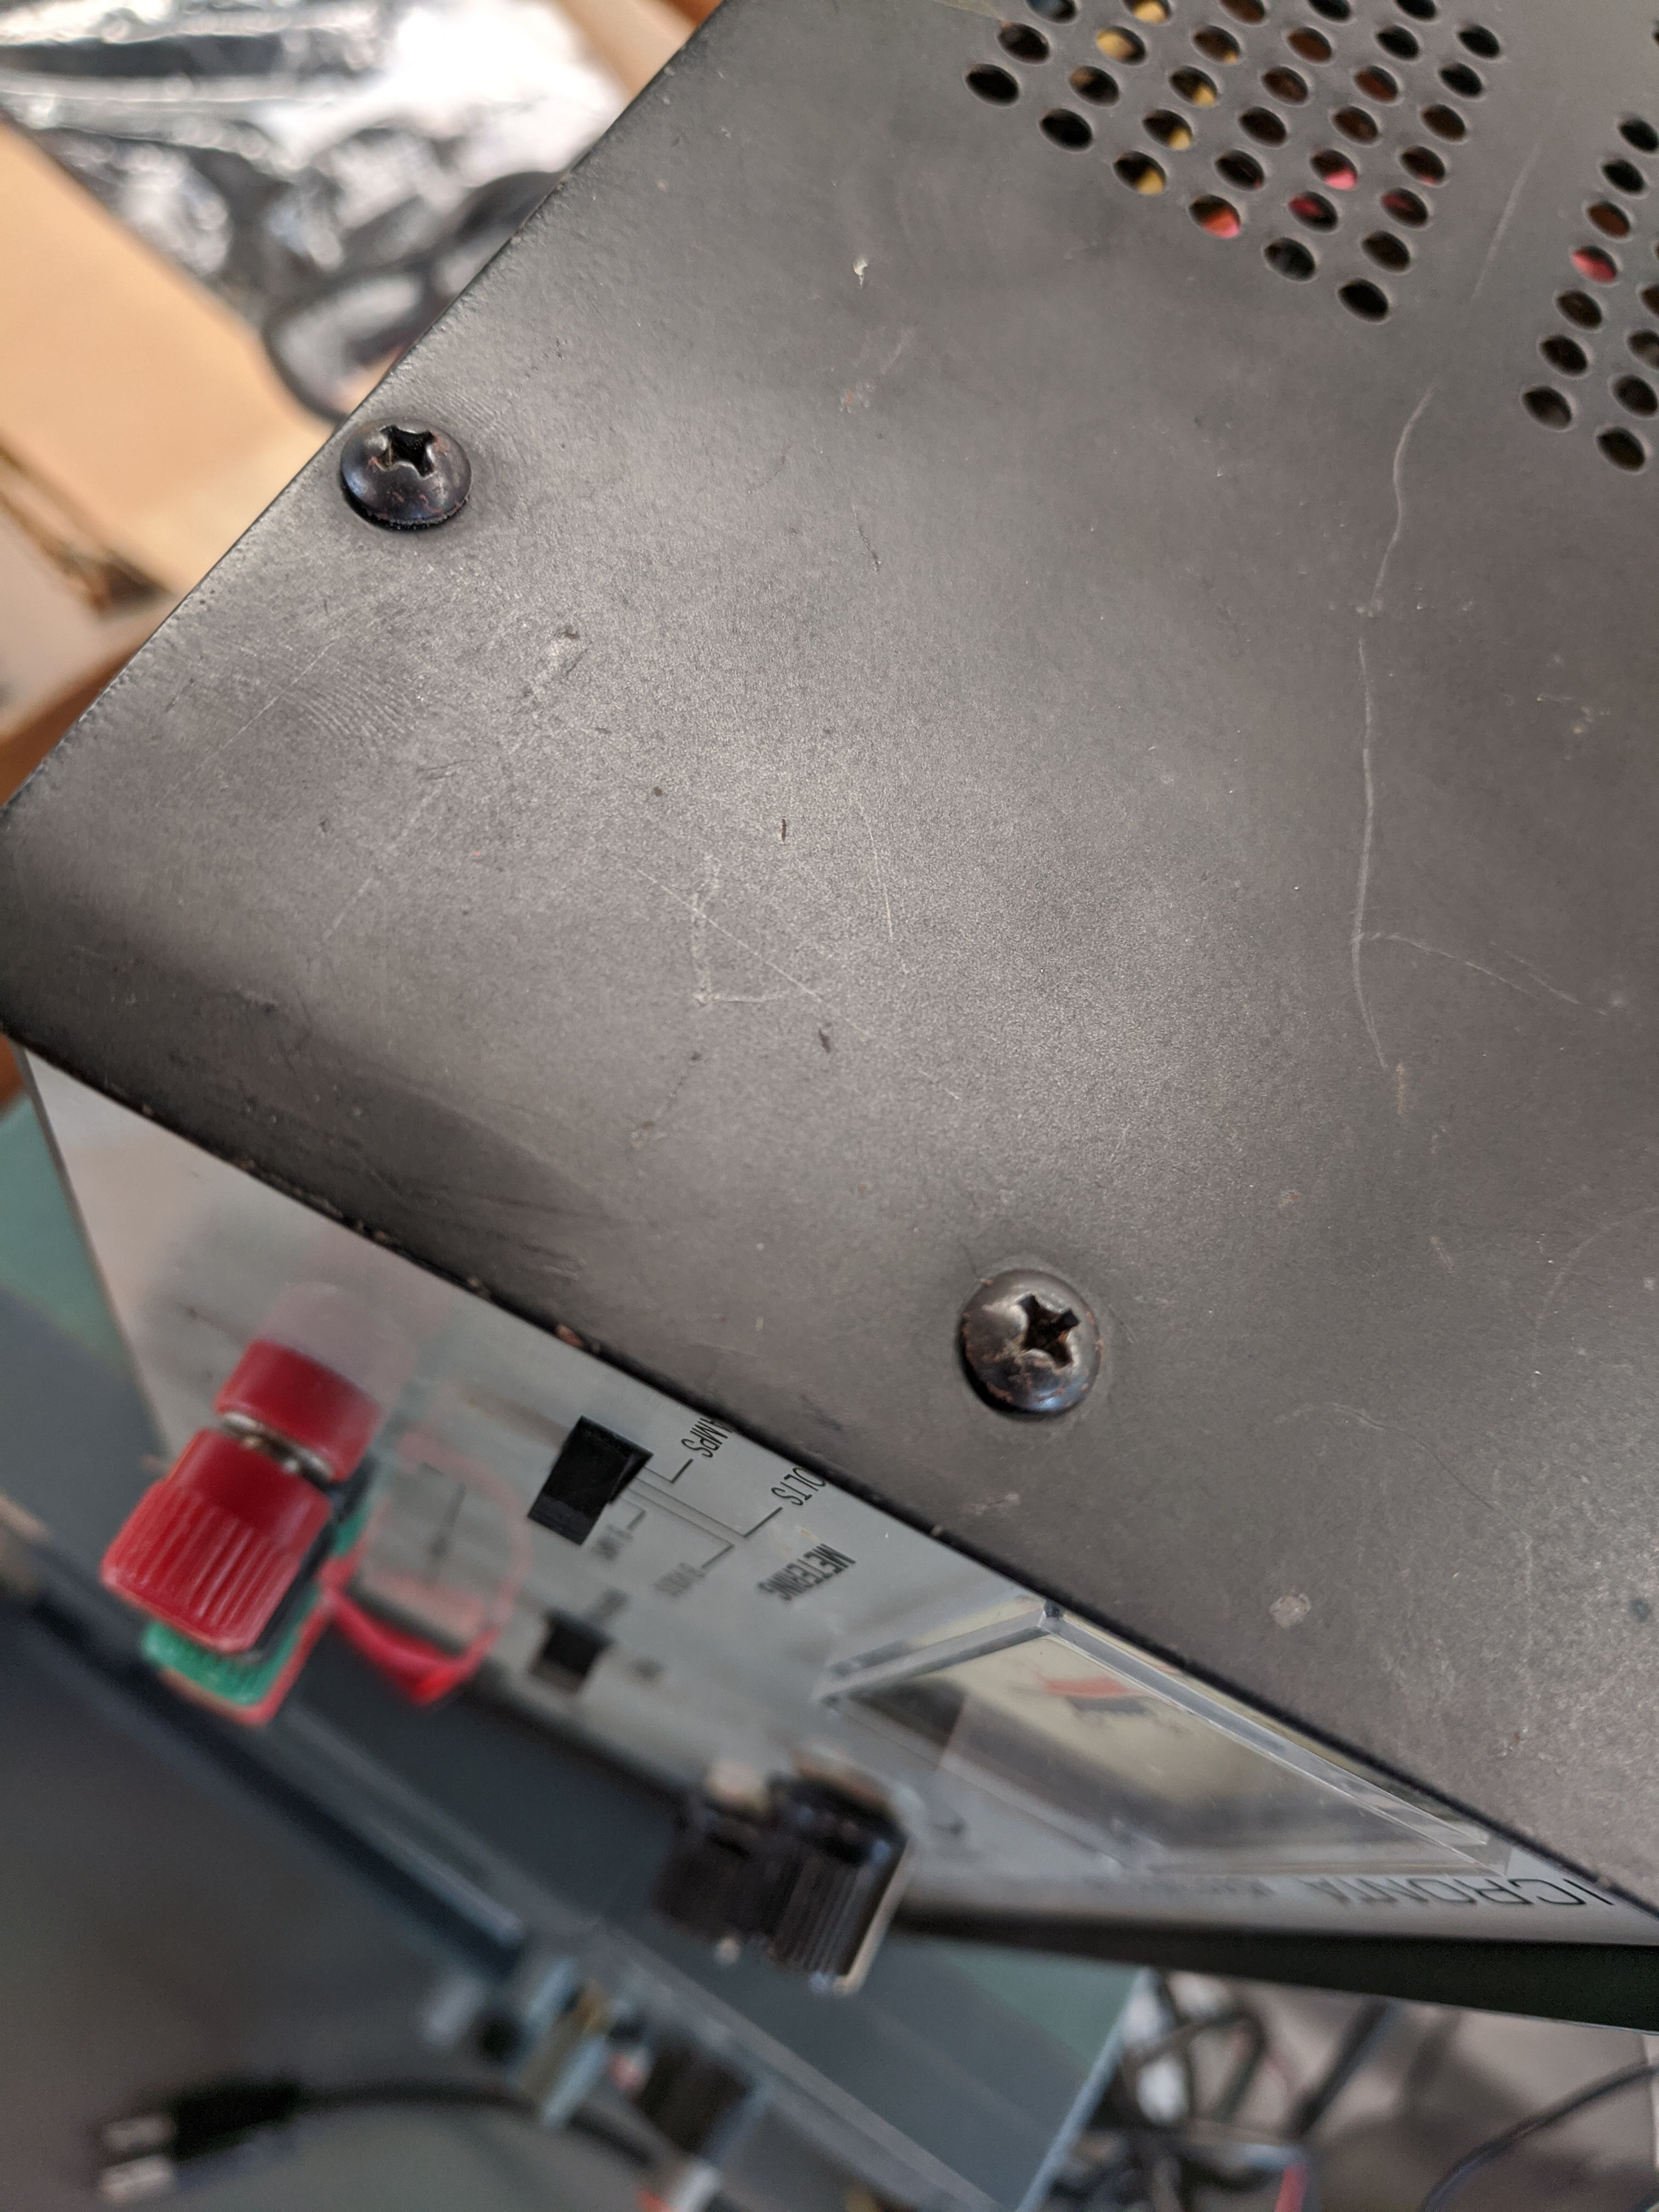cross_recessed_screw: (945, 1251, 1122, 1404), (336, 404, 479, 512)
